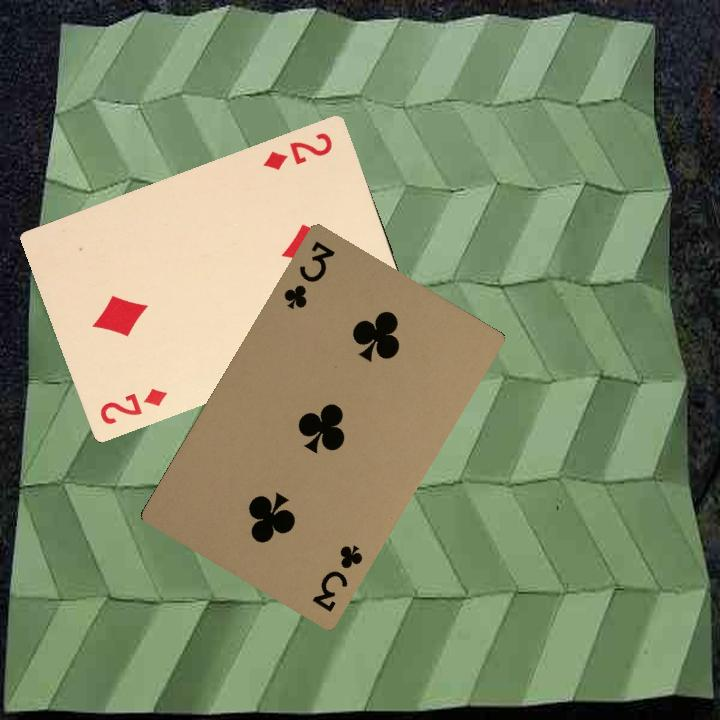2d: (260, 128, 335, 173), (96, 384, 170, 427)
3c: (279, 237, 338, 312), (308, 540, 365, 615)
